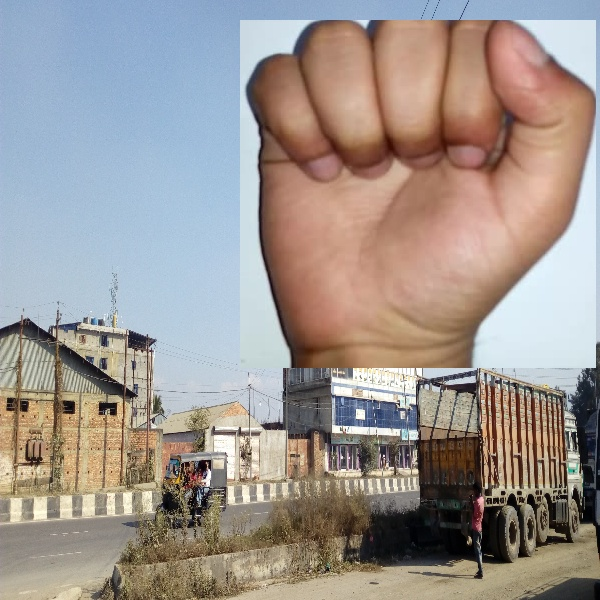A: (240, 20, 596, 368)
